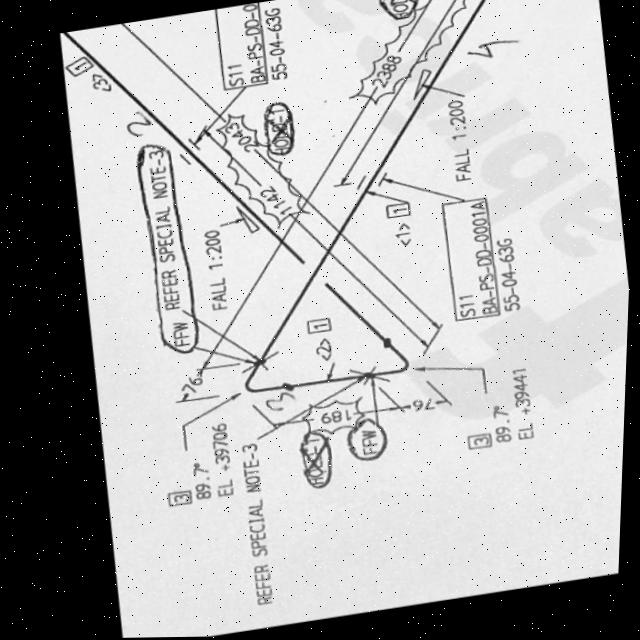Item number: (440, 197, 504, 325), (210, 2, 271, 92), (63, 55, 96, 79), (383, 198, 416, 221), (306, 316, 336, 337), (168, 488, 197, 509), (467, 432, 497, 452)
Measrement: (196, 126, 307, 231), (383, 0, 473, 104), (340, 261, 435, 348), (200, 225, 236, 317), (375, 395, 460, 418)
Pipeline: (243, 0, 500, 388)
Symbol: (360, 336, 421, 385), (238, 351, 297, 398)
Weld number: (299, 425, 342, 494), (346, 412, 397, 467), (260, 96, 301, 161), (376, 0, 428, 28)
other: (241, 439, 283, 609), (200, 418, 242, 502), (441, 94, 478, 186), (507, 367, 541, 445), (261, 2, 292, 83), (495, 235, 526, 315)
